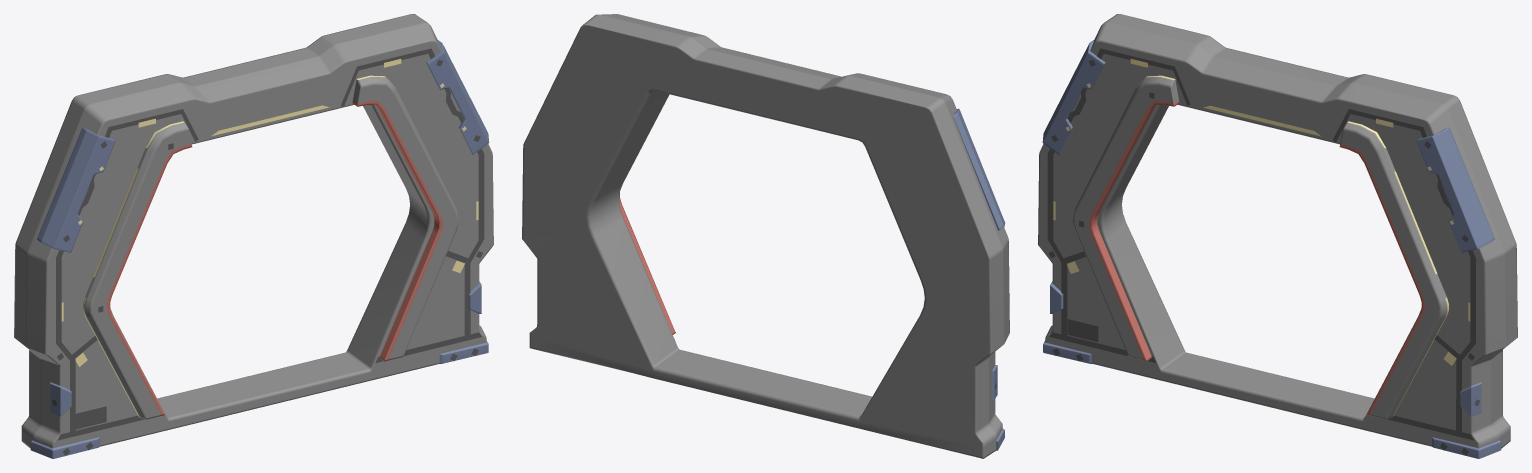
File: SA_Doorway_Panel.fbx
The picture shows the model from 3 angles, left to right: view 1: azimuth 30°, elevation 25°; view 2: azimuth 150°, elevation 25°; view 3: azimuth 330°, elevation 25°; orthographic projection.
Visible parts, largest first — view 1: SA_Doorway_Panel_LOD00, SA_Doorway_Panel_Decals_LOD00; view 2: SA_Doorway_Panel_LOD00; view 3: SA_Doorway_Panel_LOD00, SA_Doorway_Panel_Decals_LOD00.
Boxes of the visible parts, x1,y1,x2,y2 form: SA_Doorway_Panel_LOD00: (14, 14, 493, 458); SA_Doorway_Panel_Decals_LOD00: (51, 48, 484, 455); SA_Doorway_Panel_LOD00: (522, 14, 1009, 458); SA_Doorway_Panel_LOD00: (1038, 14, 1517, 458); SA_Doorway_Panel_Decals_LOD00: (1047, 48, 1479, 455).
Size of the model in its own units: 797 by 549 by 92.55.
